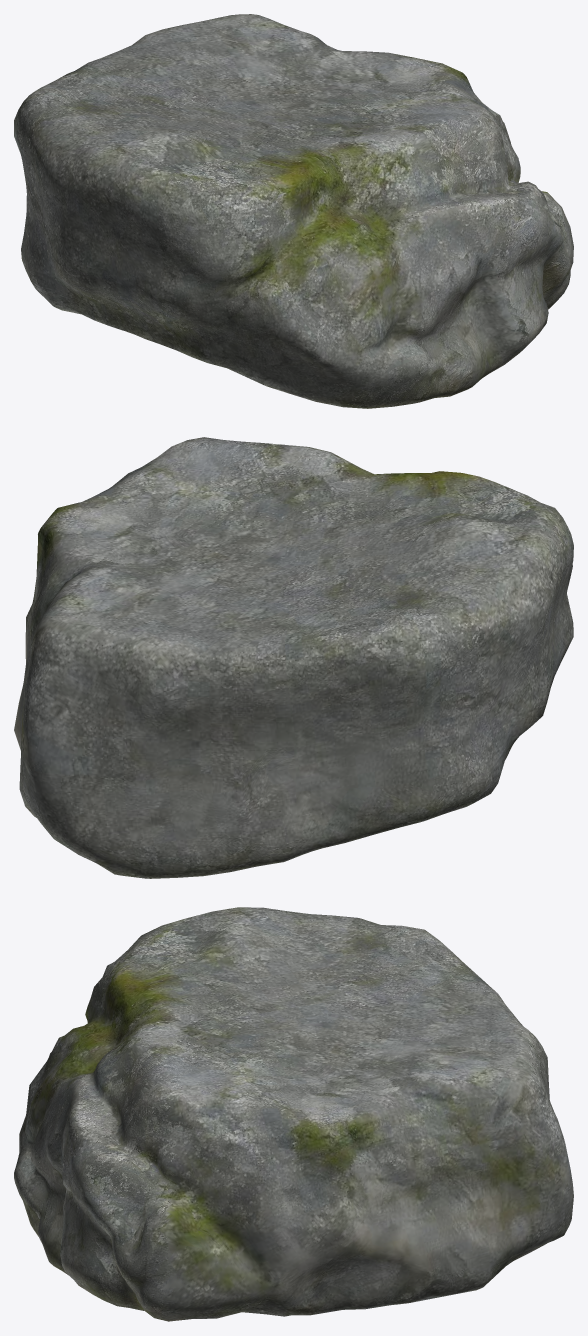
The model's file is rock.glb.
3 views of the same model, one above another, from view 1: azimuth 30°, elevation 25°; view 2: azimuth 150°, elevation 25°; view 3: azimuth 270°, elevation 25° (orthographic). The views are drawn at different scales.
Visible parts, largest first — view 1: tripo_node_e89654b3-2596-4ab9-851f-d1aef333020a; view 2: tripo_node_e89654b3-2596-4ab9-851f-d1aef333020a; view 3: tripo_node_e89654b3-2596-4ab9-851f-d1aef333020a.
Part boxes in pixels (left/top/right/bottom): tripo_node_e89654b3-2596-4ab9-851f-d1aef333020a: left=14, top=14, right=573, bottom=408; tripo_node_e89654b3-2596-4ab9-851f-d1aef333020a: left=14, top=437, right=573, bottom=878; tripo_node_e89654b3-2596-4ab9-851f-d1aef333020a: left=14, top=907, right=573, bottom=1321.
Bounding box in the file's own units: 0.9277 × 0.4668 × 0.998.
1 material, 1 textured.
